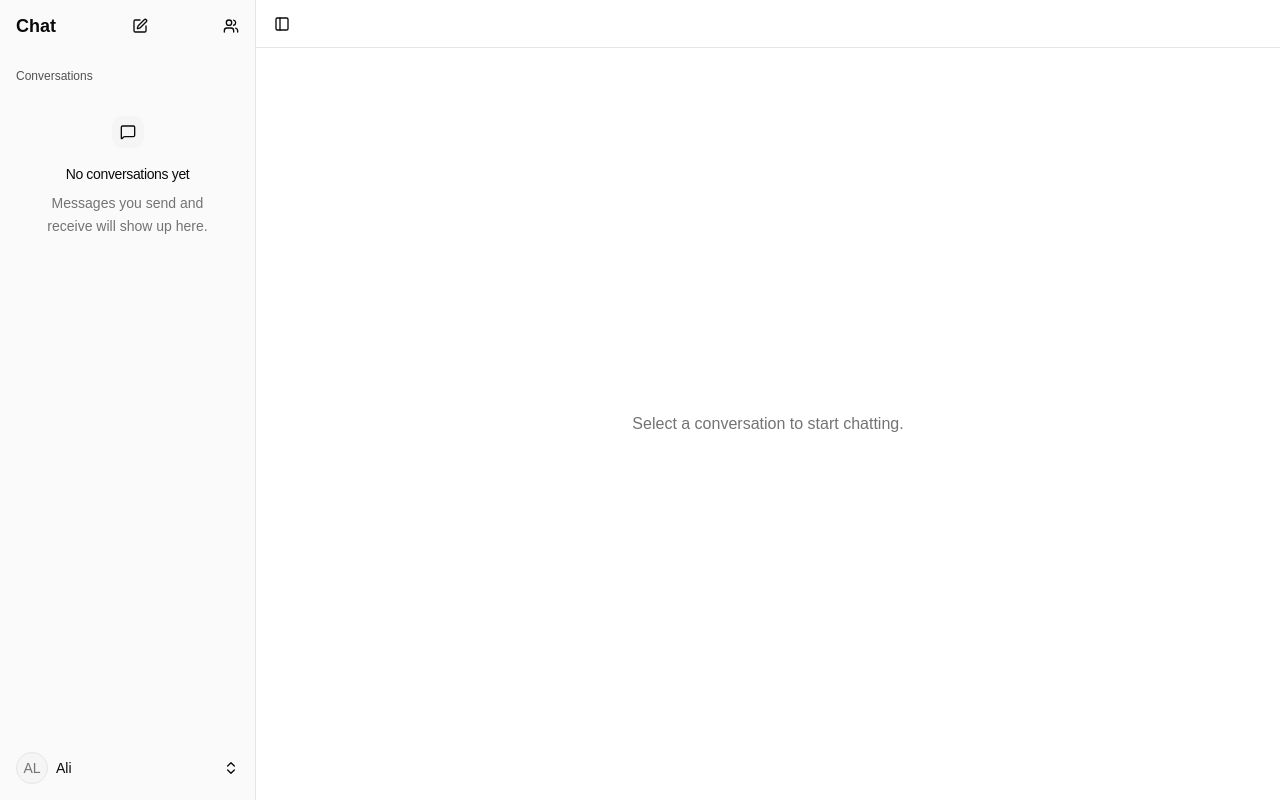
Test: new conversation: user search › asks the server for matches and lists Username and Nickname
The image size is (1280, 800).
Expected: the text "No conversations yet" is shown, [66,164,189,184]
Click the button named "new conversation" at {"x": 140, "y": 26}, box [124,10,156,42]
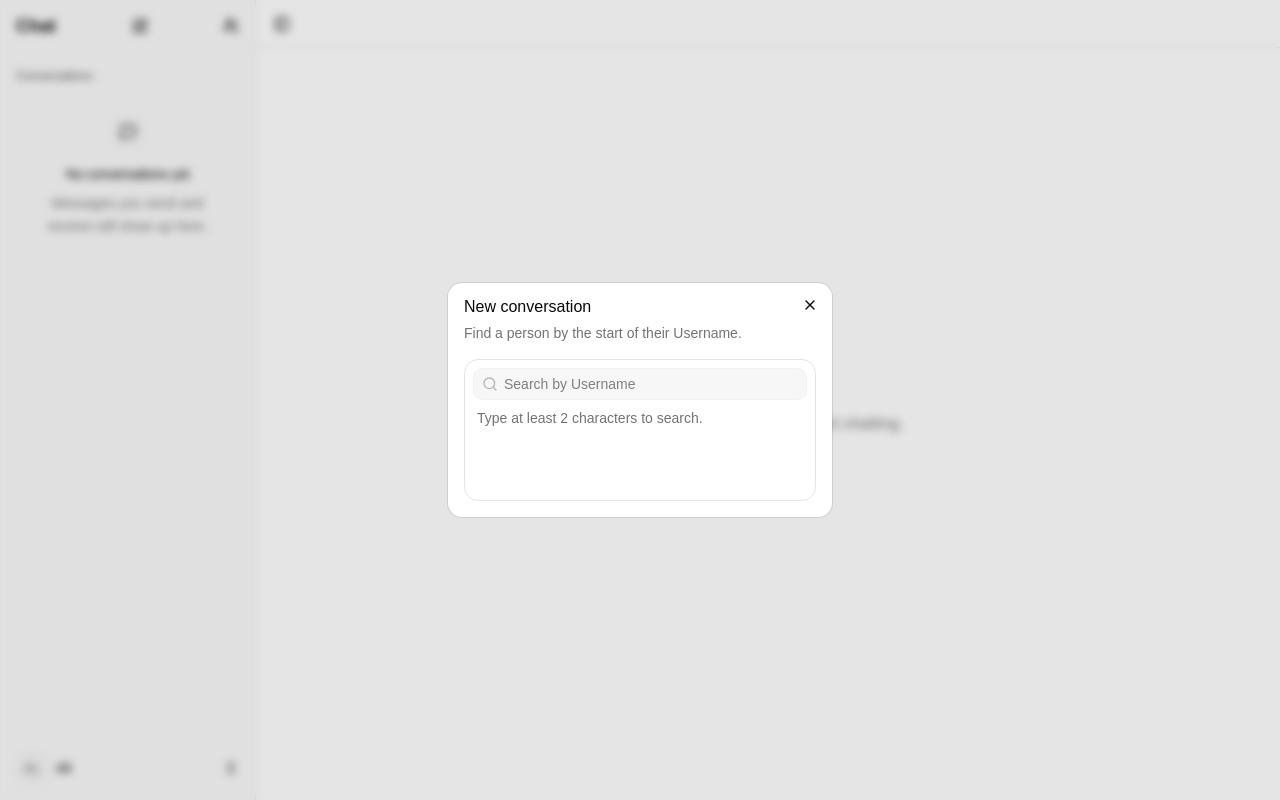
Type "bo" into the dropdown at {"x": 652, "y": 384}, box [498,374,806,394]
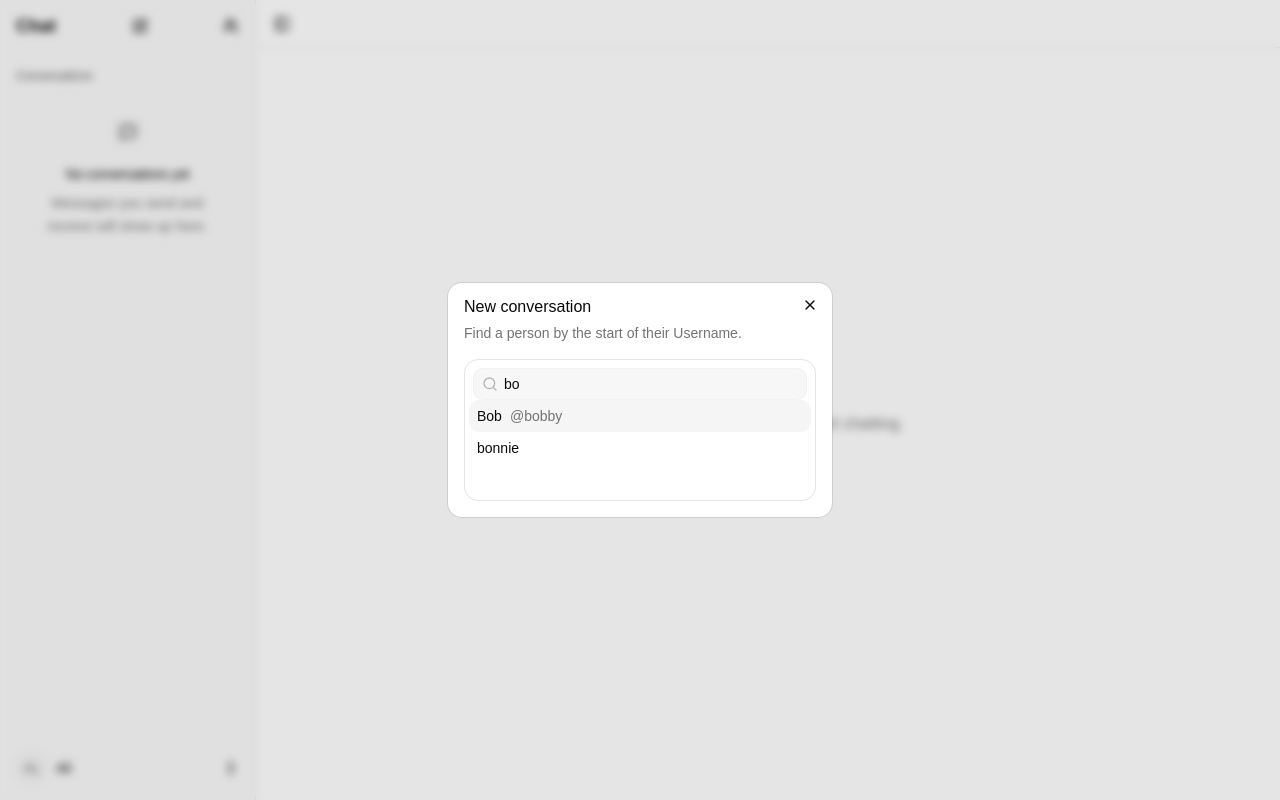
Expected: the options read "Bob@bobby", "bonnie", in this order, [469,400,811,432]; [477,440,519,456]
